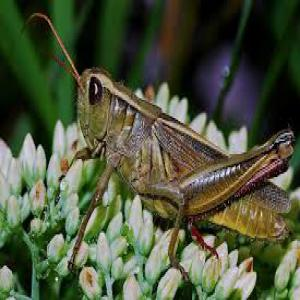locust: (61, 30, 300, 288)
